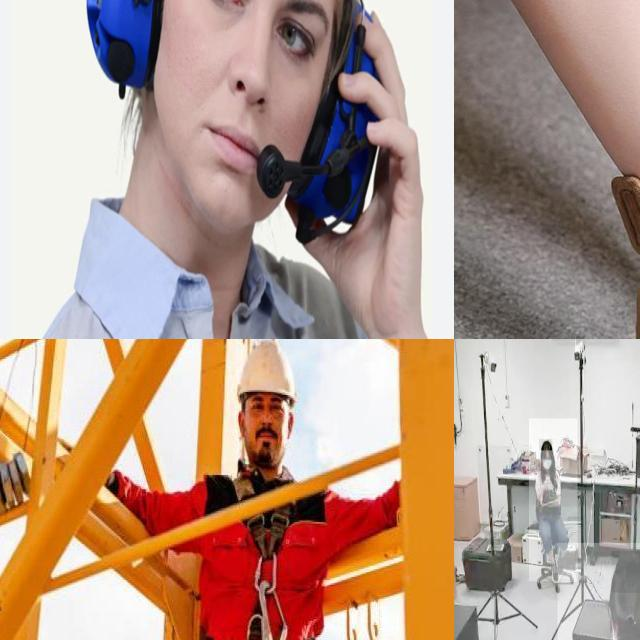Ear-protection: (86, 0, 383, 250)
Harness: (193, 461, 343, 640)
No_Glasses: (186, 0, 321, 81)
head_nohelmet: (611, 550, 640, 593), (539, 439, 553, 451)
person: (529, 418, 578, 582)
